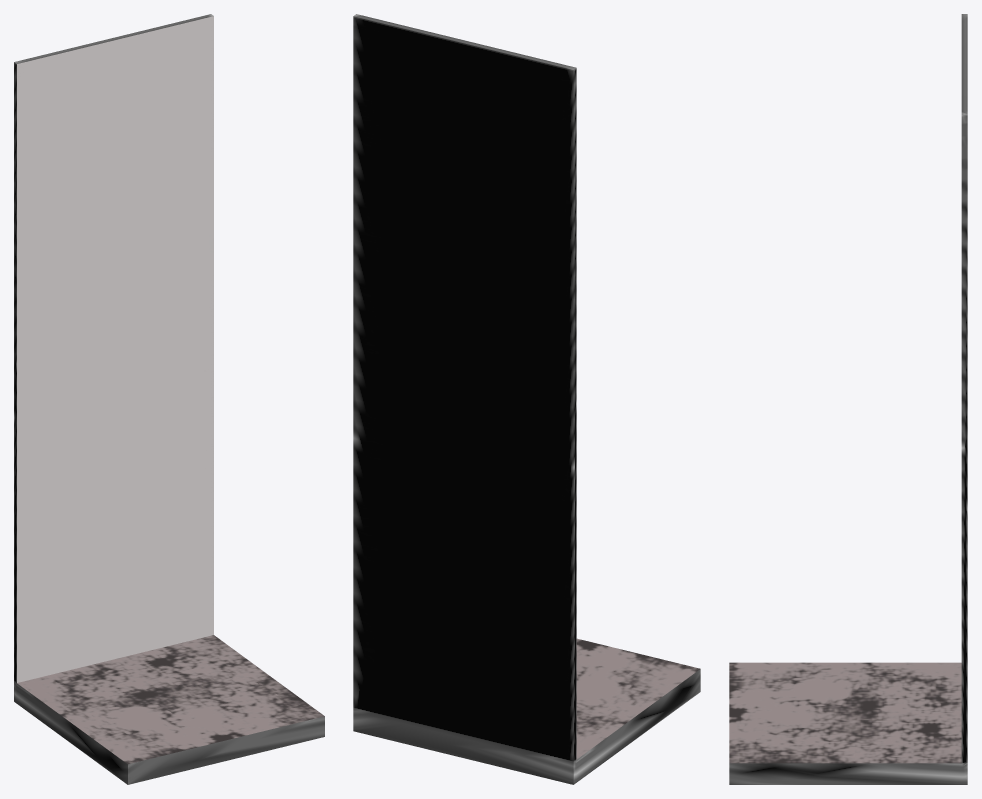
The model's file is Wall_Floor 1.fbx.
3 renders of one model, left to right at view 1: azimuth 30°, elevation 25°; view 2: azimuth 150°, elevation 25°; view 3: azimuth 270°, elevation 25°, orthographic. The views are drawn at different scales.
Parts seen in each view (by area): view 1: pCube1; view 2: pCube1; view 3: pCube1.
Part boxes in pixels (box(x1,y1,x2,y2)): pCube1: box(14, 14, 324, 784); pCube1: box(353, 14, 700, 784); pCube1: box(729, 14, 967, 784).
Size of the model in its own units: 100 by 310 by 100.
Materials: 1 (1 with a texture image).
